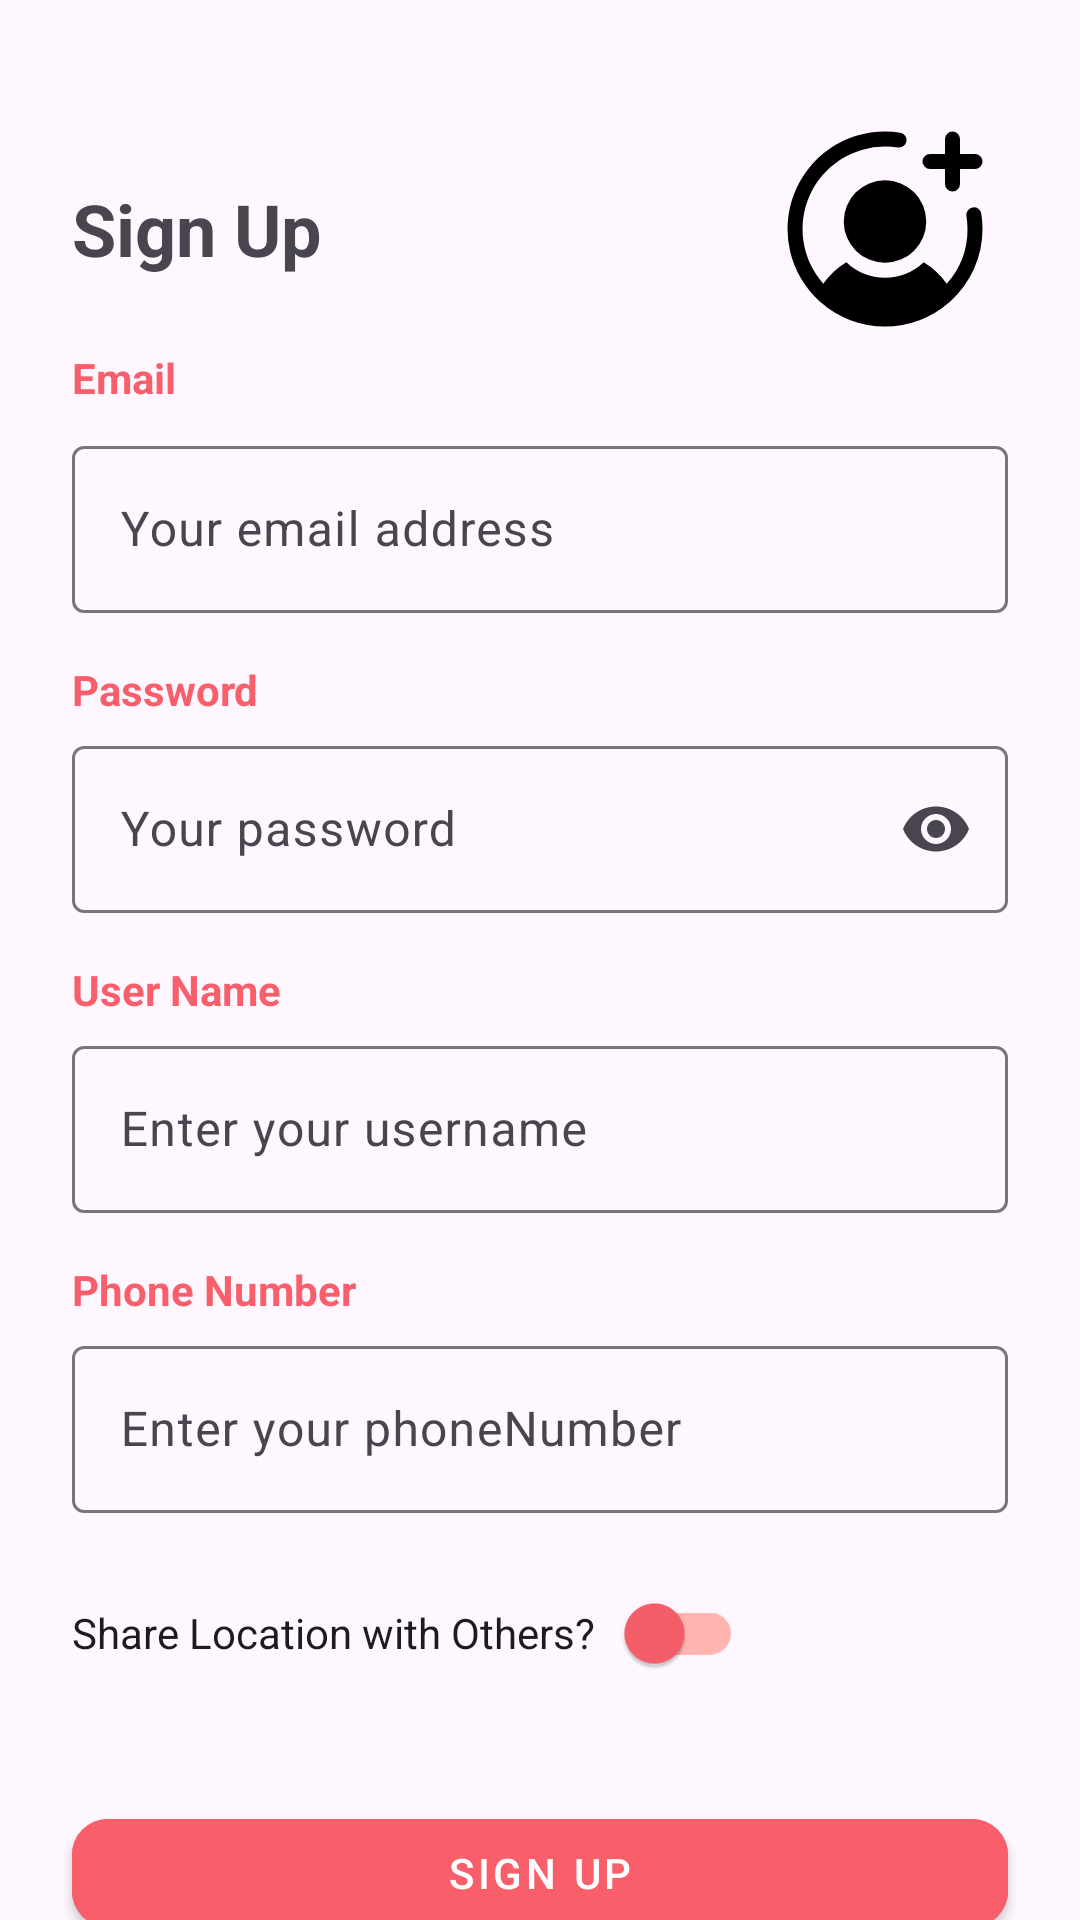

Screen size 1080px x 1920px. Icon name, then its center in pixels as (x=x, y=y):
signup profile: (x=885, y=229)
